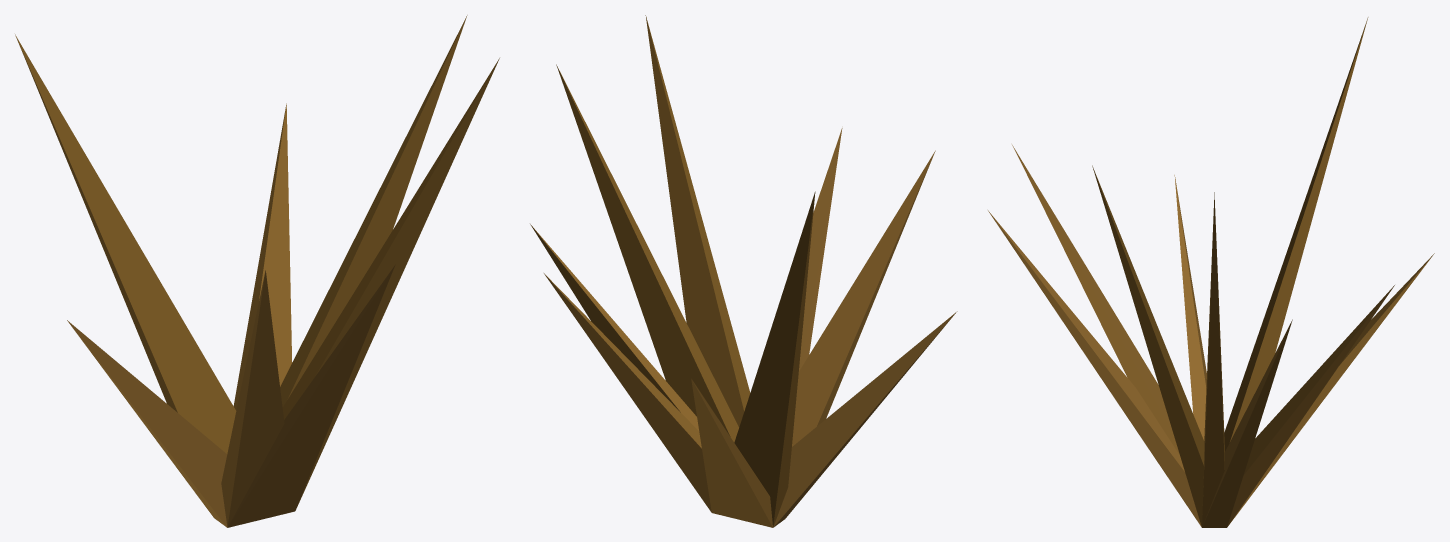
Rendered from GrassTuft.fbx.
The picture shows the model from 3 angles, left to right: view 1: azimuth 30°, elevation 25°; view 2: azimuth 150°, elevation 25°; view 3: azimuth 270°, elevation 25°; orthographic projection. The views are drawn at different scales.
Visible parts, largest first — view 1: GrassTuft; view 2: GrassTuft; view 3: GrassTuft.
Boxes of the visible parts, x1,y1,x2,y2 form: GrassTuft: (15, 15, 499, 527); GrassTuft: (530, 15, 957, 527); GrassTuft: (988, 17, 1434, 527).
Bounding box in the file's own units: 0.4366 × 0.4565 × 0.4316.
